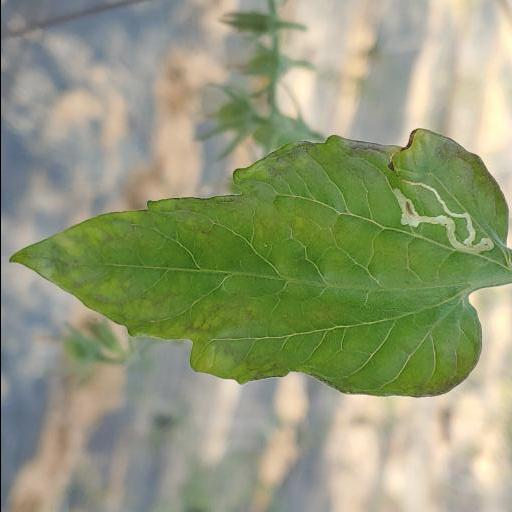Leaf Miner: (8, 127, 510, 399)
